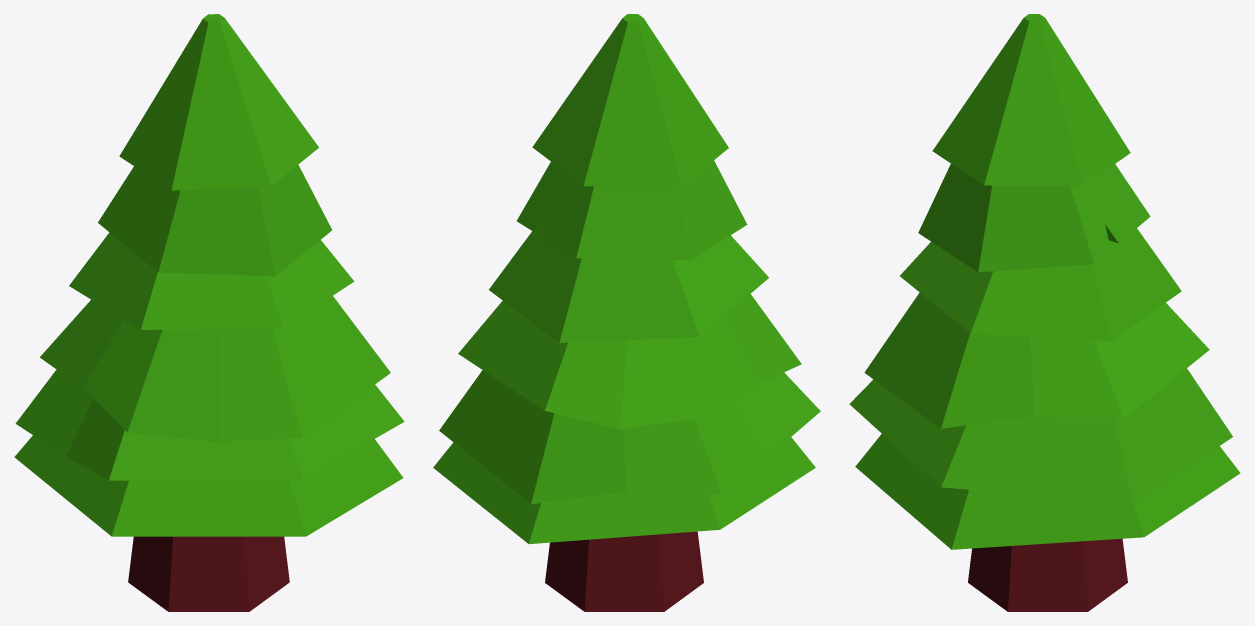
File: pinheiro.fbx
3 views of the same model, side by side, from view 1: azimuth 30°, elevation 25°; view 2: azimuth 150°, elevation 25°; view 3: azimuth 270°, elevation 25° (orthographic).
Visible parts, largest first — view 1: Cylinder.003, Cylinder.006, Cylinder.001, Cylinder.002, Cylinder.005, Cylinder.004, Cylinder; view 2: Cylinder.002, Cylinder.003, Cylinder.004, Cylinder.006, Cylinder.005, Cylinder.001, Cylinder; view 3: Cylinder.003, Cylinder.002, Cylinder.006, Cylinder.001, Cylinder.004, Cylinder.005, Cylinder.
Boxes of the visible parts, x1=… form: Cylinder.003: x1=40, y1=296, x2=390, y2=442; Cylinder.006: x1=119, y1=14, x2=318, y2=190; Cylinder.001: x1=14, y1=435, x2=403, y2=536; Cylinder.002: x1=15, y1=369, x2=404, y2=480; Cylinder.005: x1=98, y1=164, x2=331, y2=276; Cylinder.004: x1=69, y1=232, x2=354, y2=329; Cylinder: x1=128, y1=536, x2=289, y2=611; Cylinder.002: x1=439, y1=370, x2=820, y2=504; Cylinder.003: x1=458, y1=294, x2=801, y2=428; Cylinder.004: x1=489, y1=231, x2=768, y2=342; Cylinder.006: x1=532, y1=14, x2=728, y2=186; Cylinder.005: x1=516, y1=160, x2=747, y2=259; Cylinder.001: x1=433, y1=437, x2=815, y2=544; Cylinder: x1=545, y1=531, x2=703, y2=611; Cylinder.003: x1=864, y1=292, x2=1209, y2=428; Cylinder.002: x1=849, y1=368, x2=1232, y2=503; Cylinder.006: x1=932, y1=14, x2=1130, y2=186; Cylinder.001: x1=855, y1=434, x2=1240, y2=549; Cylinder.004: x1=900, y1=228, x2=1181, y2=341; Cylinder.005: x1=918, y1=164, x2=1150, y2=272; Cylinder: x1=968, y1=538, x2=1127, y2=611.
Size of the model in its own units: 423 by 778 by 489.
